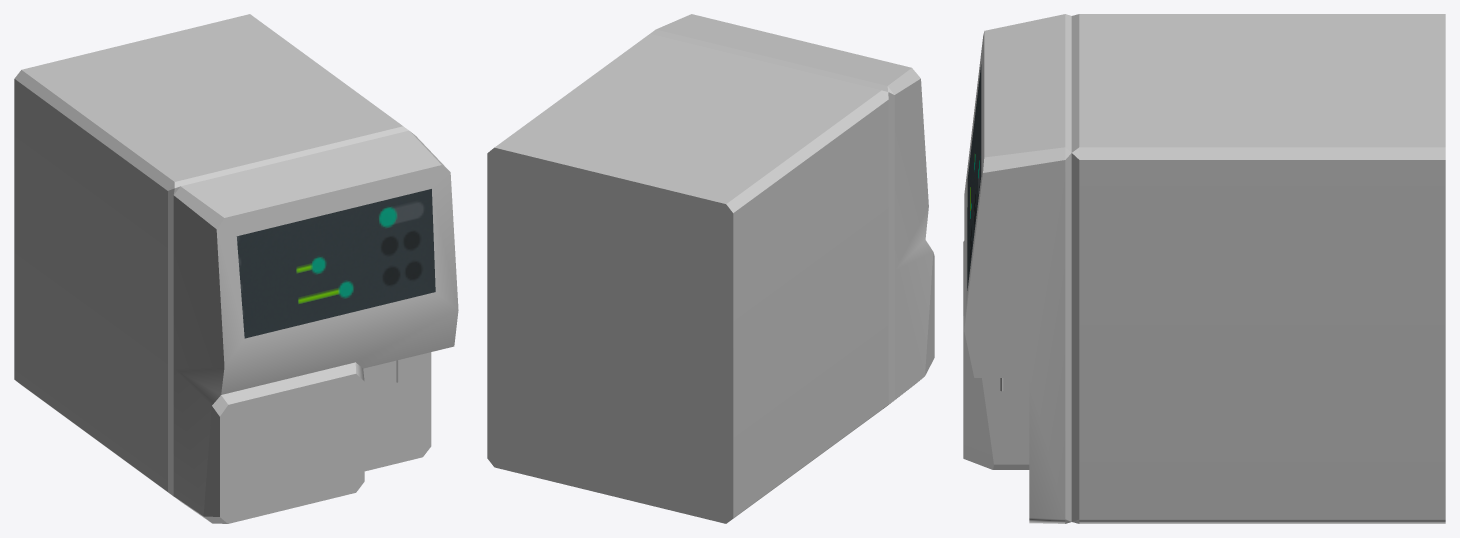
File: Hematology_Analyzer_01.fbx
3 renders of one model, left to right at view 1: azimuth 30°, elevation 25°; view 2: azimuth 150°, elevation 25°; view 3: azimuth 270°, elevation 25°, orthographic. The views are drawn at different scales.
Visible parts, largest first — view 1: Hematology_Analyzer_01; view 2: Hematology_Analyzer_01; view 3: Hematology_Analyzer_01.
Part boxes in pixels (x1=…): Hematology_Analyzer_01: x1=14, y1=14, x2=458, y2=523; Hematology_Analyzer_01: x1=487, y1=14, x2=934, y2=523; Hematology_Analyzer_01: x1=963, y1=14, x2=1445, y2=523.
Size of the model in its own units: 35 by 50.5 by 43.5.
